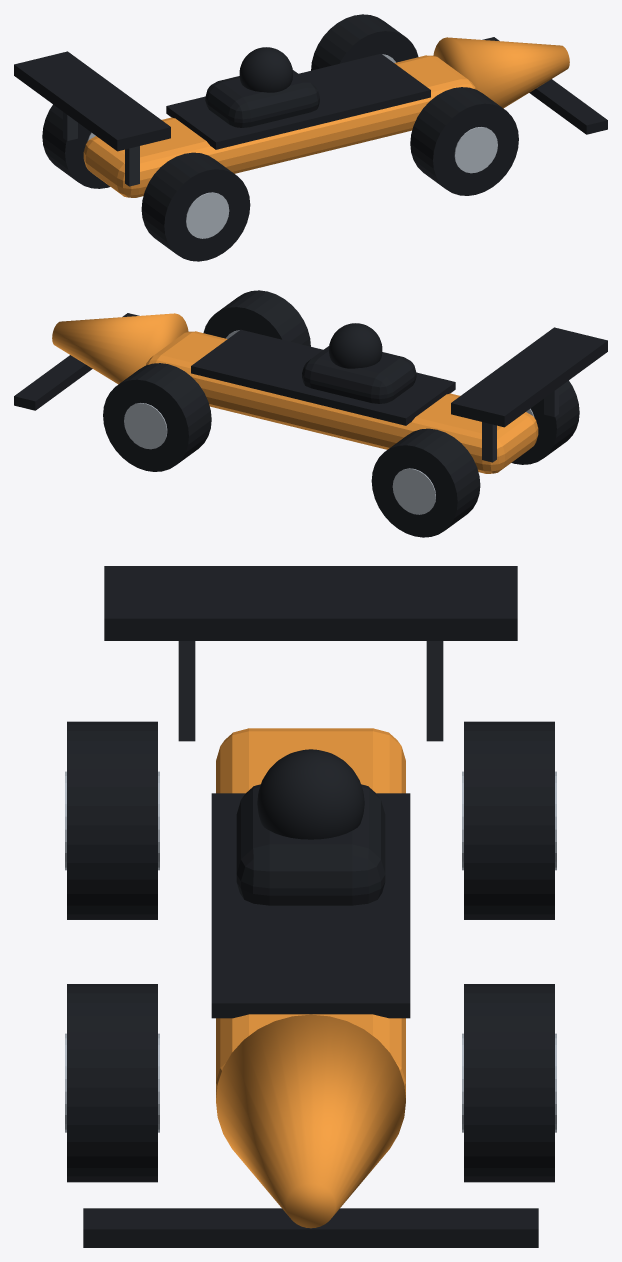
File: auto_carreras_naranja.glb
3 renders of one model, top to bottom at view 1: azimuth 30°, elevation 25°; view 2: azimuth 150°, elevation 25°; view 3: azimuth 270°, elevation 25°, orthographic. The views are drawn at different scales.
Visible parts, largest first — view 1: Cube, Cube.002, Cylinder, Cylinder.004, Cube.006, Cone, Cube.001, Cylinder.006, Cylinder.002, Sphere, Cube.003, Cylinder.001 (+3 smaller); view 2: Cube, Cube.002, Cylinder.002, Cylinder.006, Cube.006, Cone, Cube.001, Cylinder.004, Cylinder, Sphere, Cube.003, Cylinder.003 (+3 smaller); view 3: Cube.006, Cone, Cube.002, Cylinder, Cylinder.002, Cylinder.004, Cylinder.006, Cube.003, Cube.001, Cube, Sphere, Cube.004 (+1 smaller).
Part boxes in pixels (x1=…): Cube: x1=83, y1=55, x2=475, y2=197; Cube.002: x1=166, y1=53, x2=430, y2=149; Cylinder: x1=141, y1=152, x2=250, y2=261; Cylinder.004: x1=410, y1=87, x2=518, y2=195; Cube.006: x1=14, y1=51, x2=170, y2=151; Cone: x1=433, y1=37, x2=569, y2=108; Cube.001: x1=205, y1=70, x2=319, y2=127; Cylinder.006: x1=311, y1=14, x2=418, y2=70; Cylinder.002: x1=42, y1=104, x2=110, y2=188; Sphere: x1=239, y1=47, x2=292, y2=92; Cube.003: x1=482, y1=37, x2=607, y2=134; Cylinder.001: x1=186, y1=192, x2=229, y2=238; Cube: x1=146, y1=331, x2=538, y2=473; Cube.002: x1=191, y1=329, x2=455, y2=425; Cylinder.002: x1=371, y1=428, x2=480, y2=537; Cylinder.006: x1=103, y1=363, x2=211, y2=471; Cube.006: x1=451, y1=327, x2=607, y2=427; Cone: x1=52, y1=313, x2=188, y2=384; Cube.001: x1=302, y1=346, x2=416, y2=403; Cylinder.004: x1=203, y1=290, x2=310, y2=346; Cylinder: x1=511, y1=380, x2=579, y2=464; Sphere: x1=329, y1=323, x2=382, y2=368; Cube.003: x1=14, y1=313, x2=139, y2=410; Cylinder.003: x1=392, y1=468, x2=435, y2=514; Cube.006: x1=104, y1=566, x2=517, y2=640; Cone: x1=216, y1=1014, x2=405, y2=1228; Cube.002: x1=211, y1=793, x2=410, y2=1018; Cylinder: x1=67, y1=721, x2=157, y2=919; Cylinder.002: x1=464, y1=721, x2=554, y2=919; Cylinder.004: x1=67, y1=984, x2=157, y2=1182; Cylinder.006: x1=464, y1=984, x2=554, y2=1182; Cube.003: x1=83, y1=1208, x2=538, y2=1247; Cube.001: x1=236, y1=784, x2=385, y2=905; Cube: x1=216, y1=728, x2=405, y2=1097; Sphere: x1=257, y1=749, x2=364, y2=839; Cube.004: x1=178, y1=641, x2=195, y2=741.
Size of the model in its own units: 2.78 by 0.73 by 1.19.
